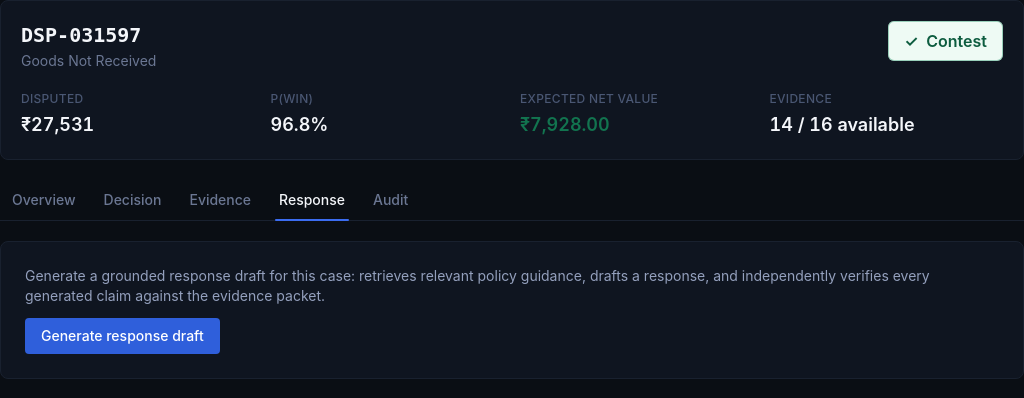
Test case: CaseResponsePage › renders a genuine transport failure as Backend unreachable
Click the button "Generate response draft".
click(122, 336)  # box x1=25 y1=318 x2=220 y2=354
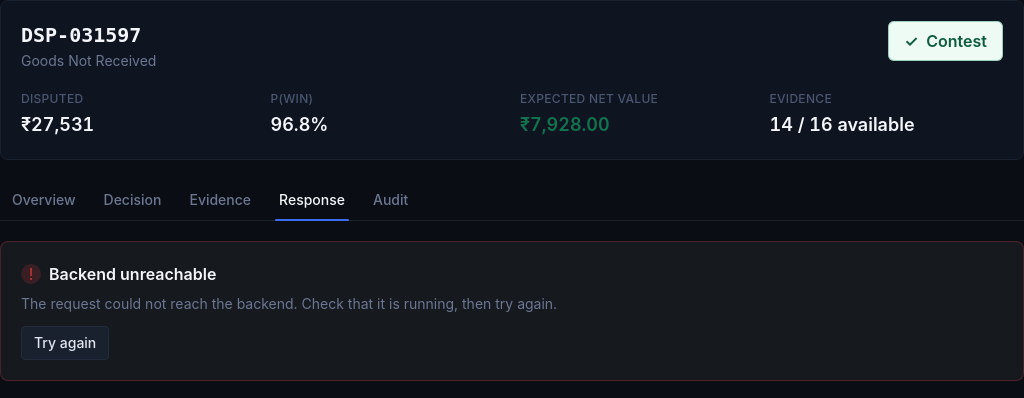
Expected: the text "Backend unreachable" is shown, x1=49 y1=262 x2=216 y2=286
Expected: the text "could not reach the backend" is shown, x1=21 y1=295 x2=557 y2=312
